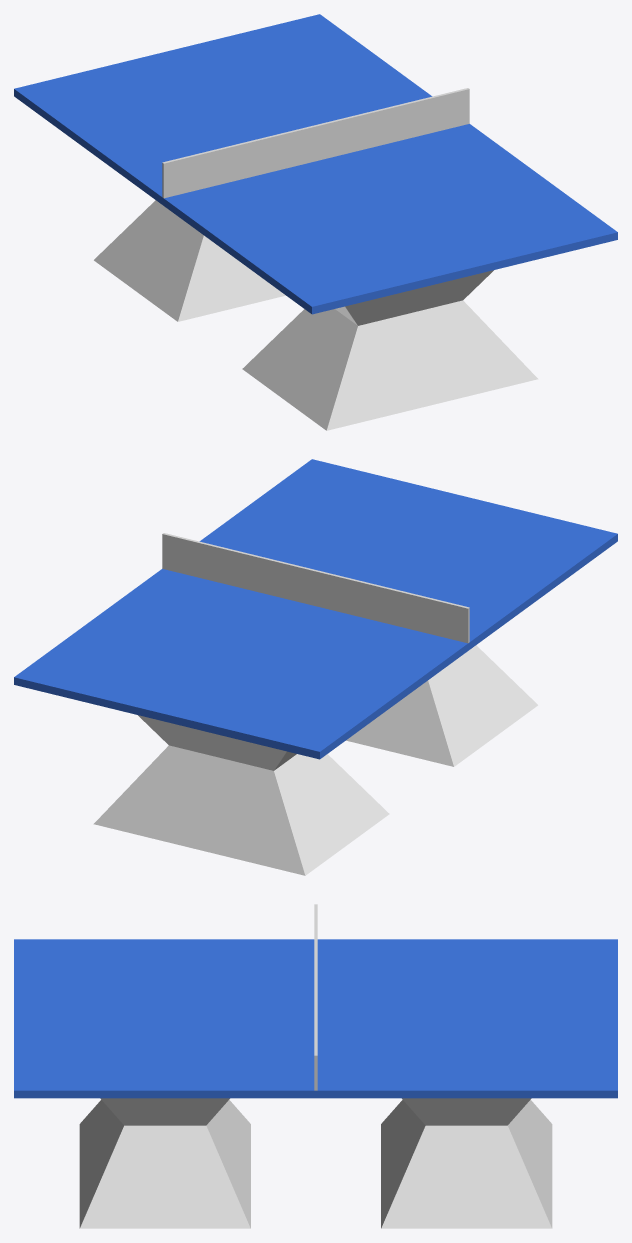
File: TablePingPong.fbx
The picture shows the model from 3 angles, top to bottom: view 1: azimuth 30°, elevation 25°; view 2: azimuth 150°, elevation 25°; view 3: azimuth 270°, elevation 25°; orthographic projection.
Visible parts, largest first — view 1: TablePingPong; view 2: TablePingPong; view 3: TablePingPong.
Boxes of the visible parts, x1=… form: TablePingPong: x1=14, y1=14, x2=617, y2=430; TablePingPong: x1=14, y1=459, x2=617, y2=875; TablePingPong: x1=14, y1=904, x2=617, y2=1228.
Bounding box in the file's own units: 720 × 436 × 1215.
